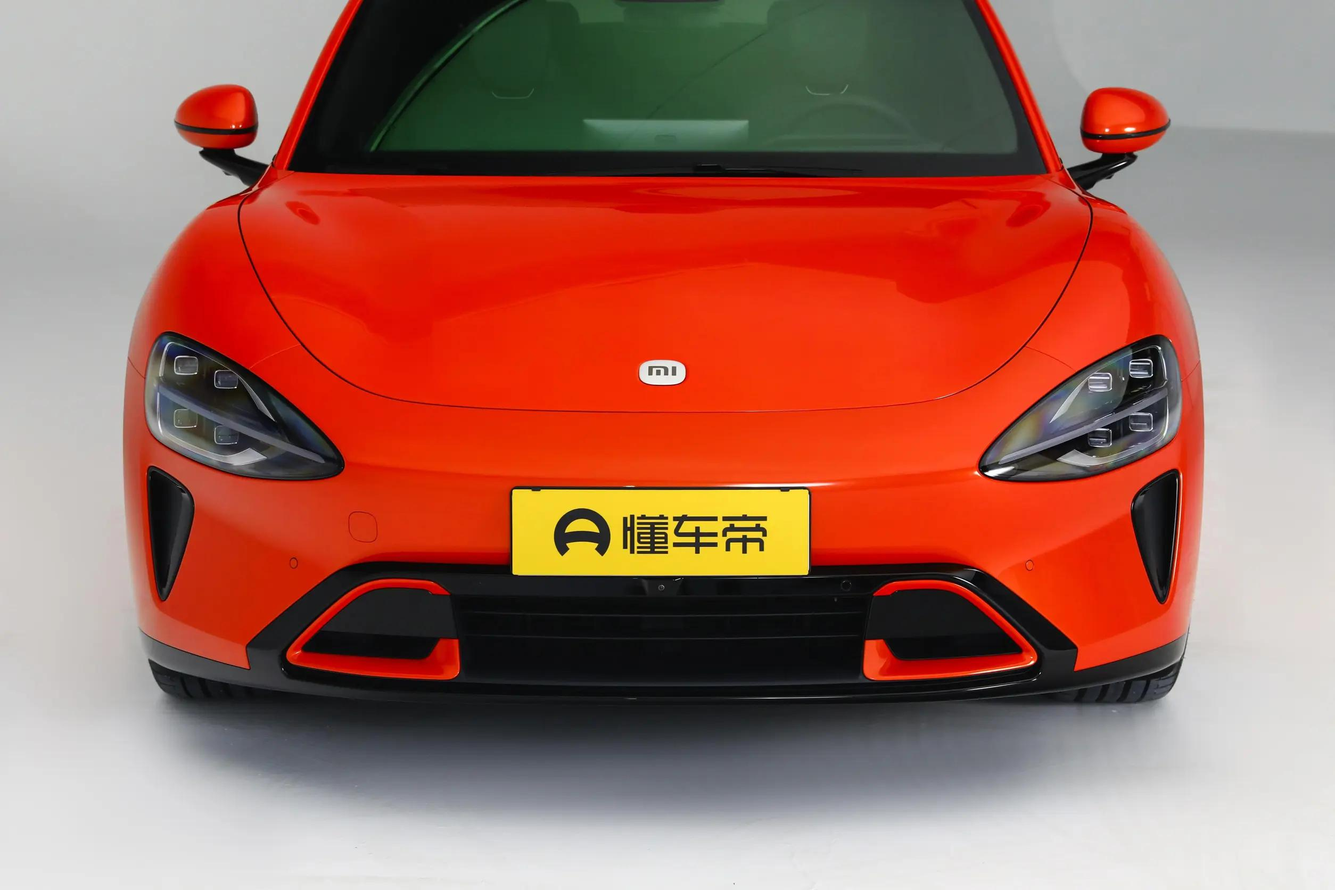XIAOMI: (639, 359, 686, 385)
